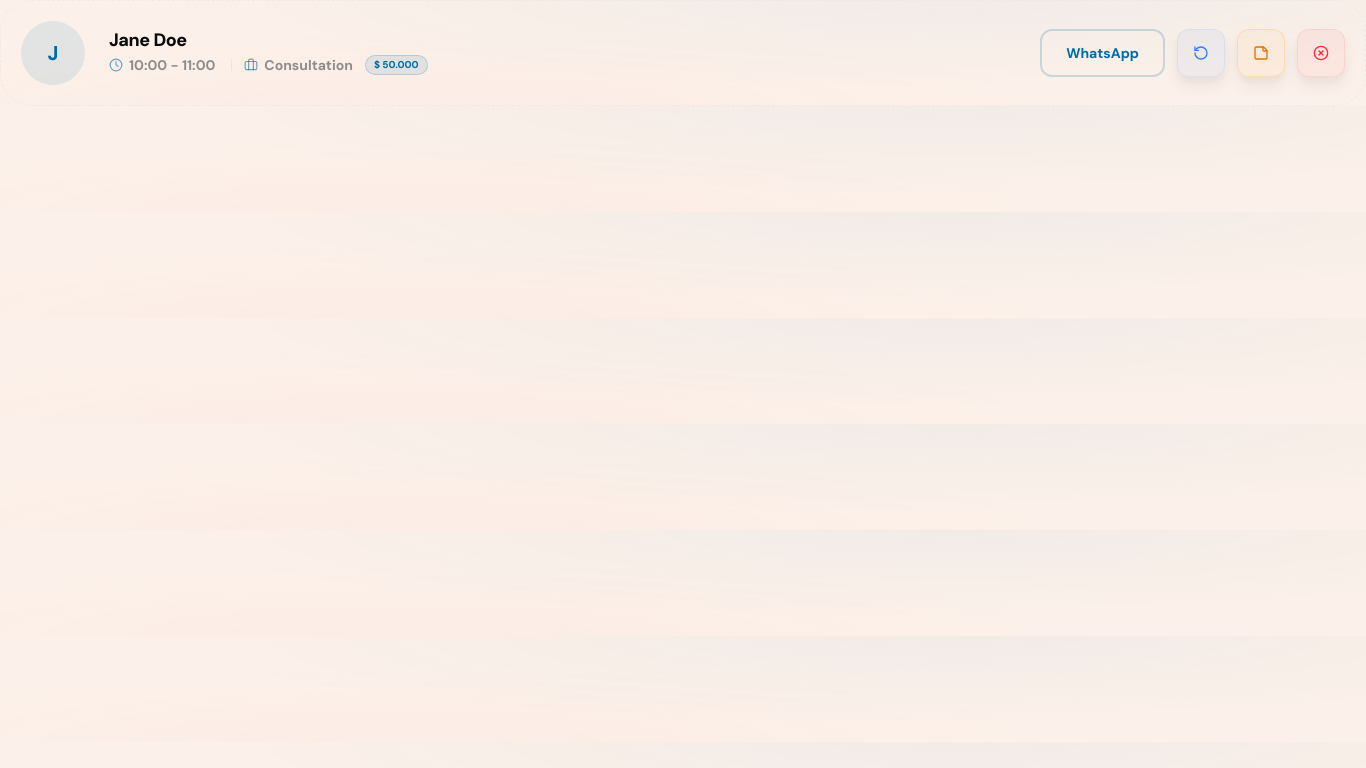
AppointmentCard › opens cancellation dialog on click
// Find the cancel button (has title "Cancelar cita")
Click the button titled "Cancelar cita" at (1321, 53), box [1297, 29, 1345, 77]
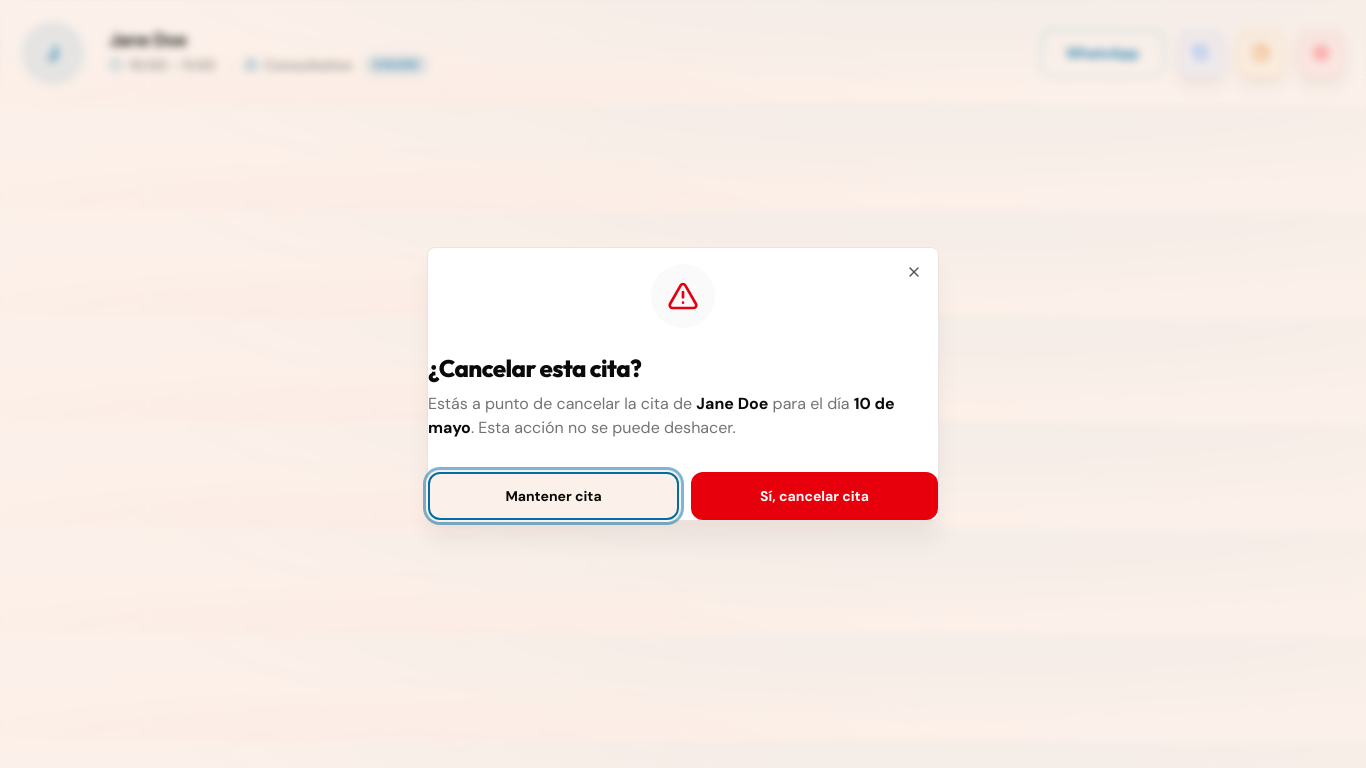
Expected: the heading "¿Cancelar esta cita?" is shown, [428, 353, 641, 383]
